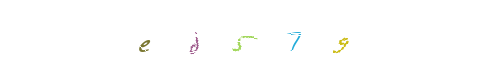5: (202, 0, 282, 80)
7: (255, 0, 335, 80)
D: (191, 0, 271, 80)
E: (126, 0, 206, 80)
G: (258, 0, 338, 80)
